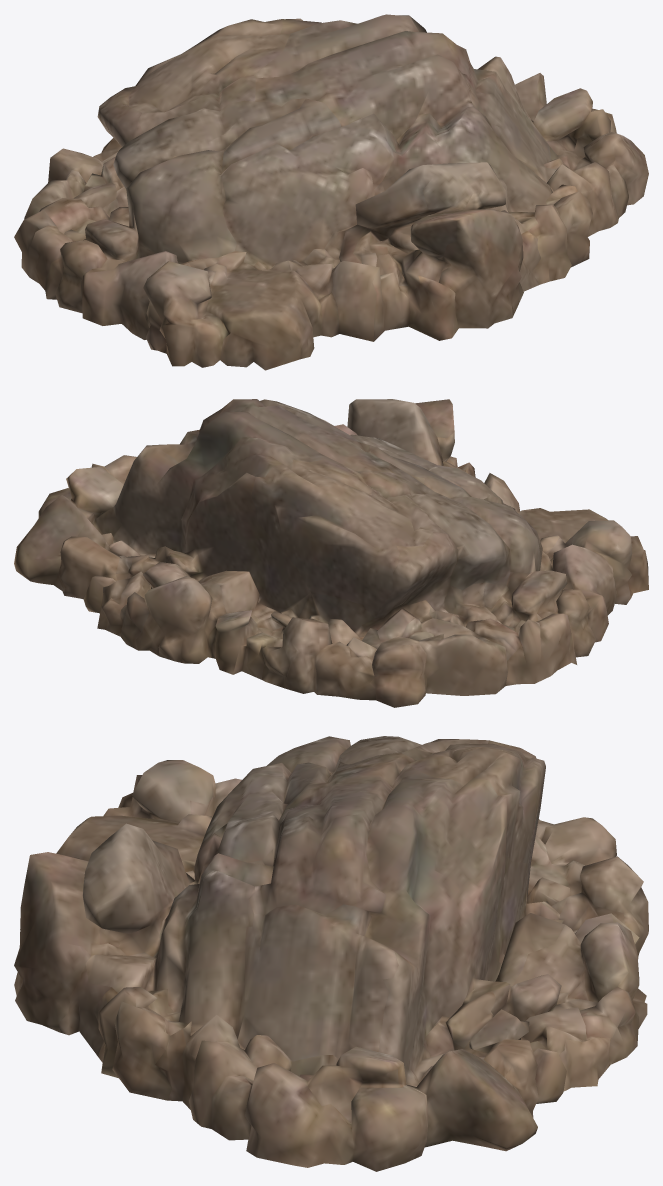
Rendered from S_Nordic_Beach_Rock_Formation_uktkfdg_lod3_Var1_0757dc.glb.
The picture shows the model from 3 angles, top to bottom: view 1: azimuth 30°, elevation 25°; view 2: azimuth 150°, elevation 25°; view 3: azimuth 270°, elevation 25°; orthographic projection. The views are drawn at different scales.
Bounding box in the file's own units: 2.06 × 0.6583 × 1.6.
1 material, 1 textured.
